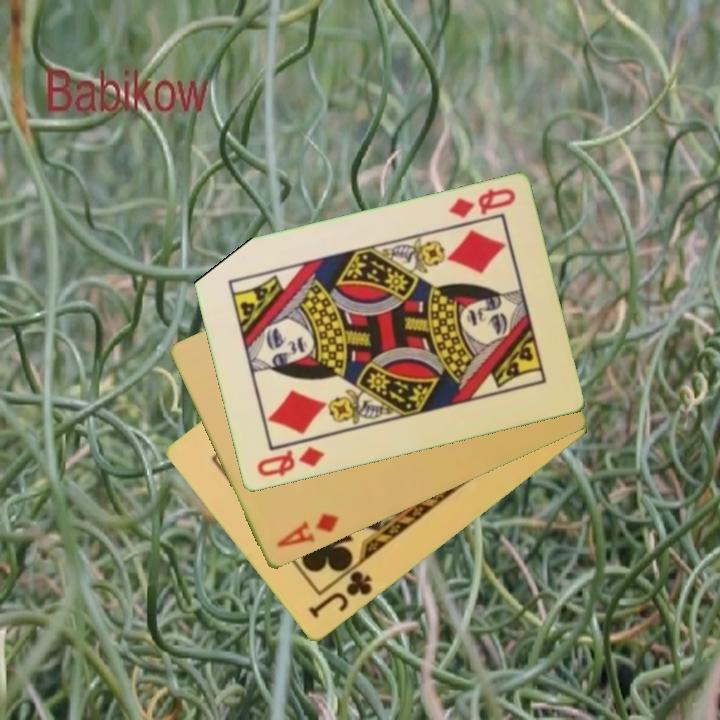Ad: (272, 510, 342, 552)
Jc: (304, 567, 375, 622)
Qd: (252, 443, 328, 480), (444, 185, 518, 222)
